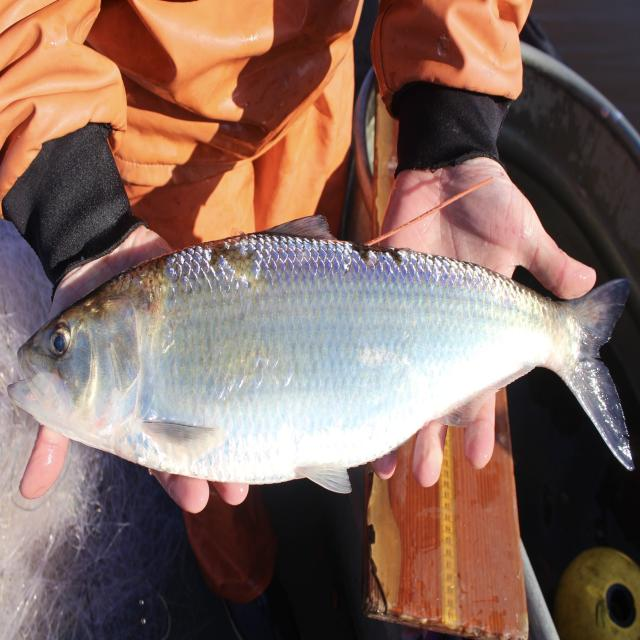Shad - American: (10, 219, 633, 492)
